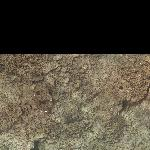dead: (5, 60, 145, 145)
